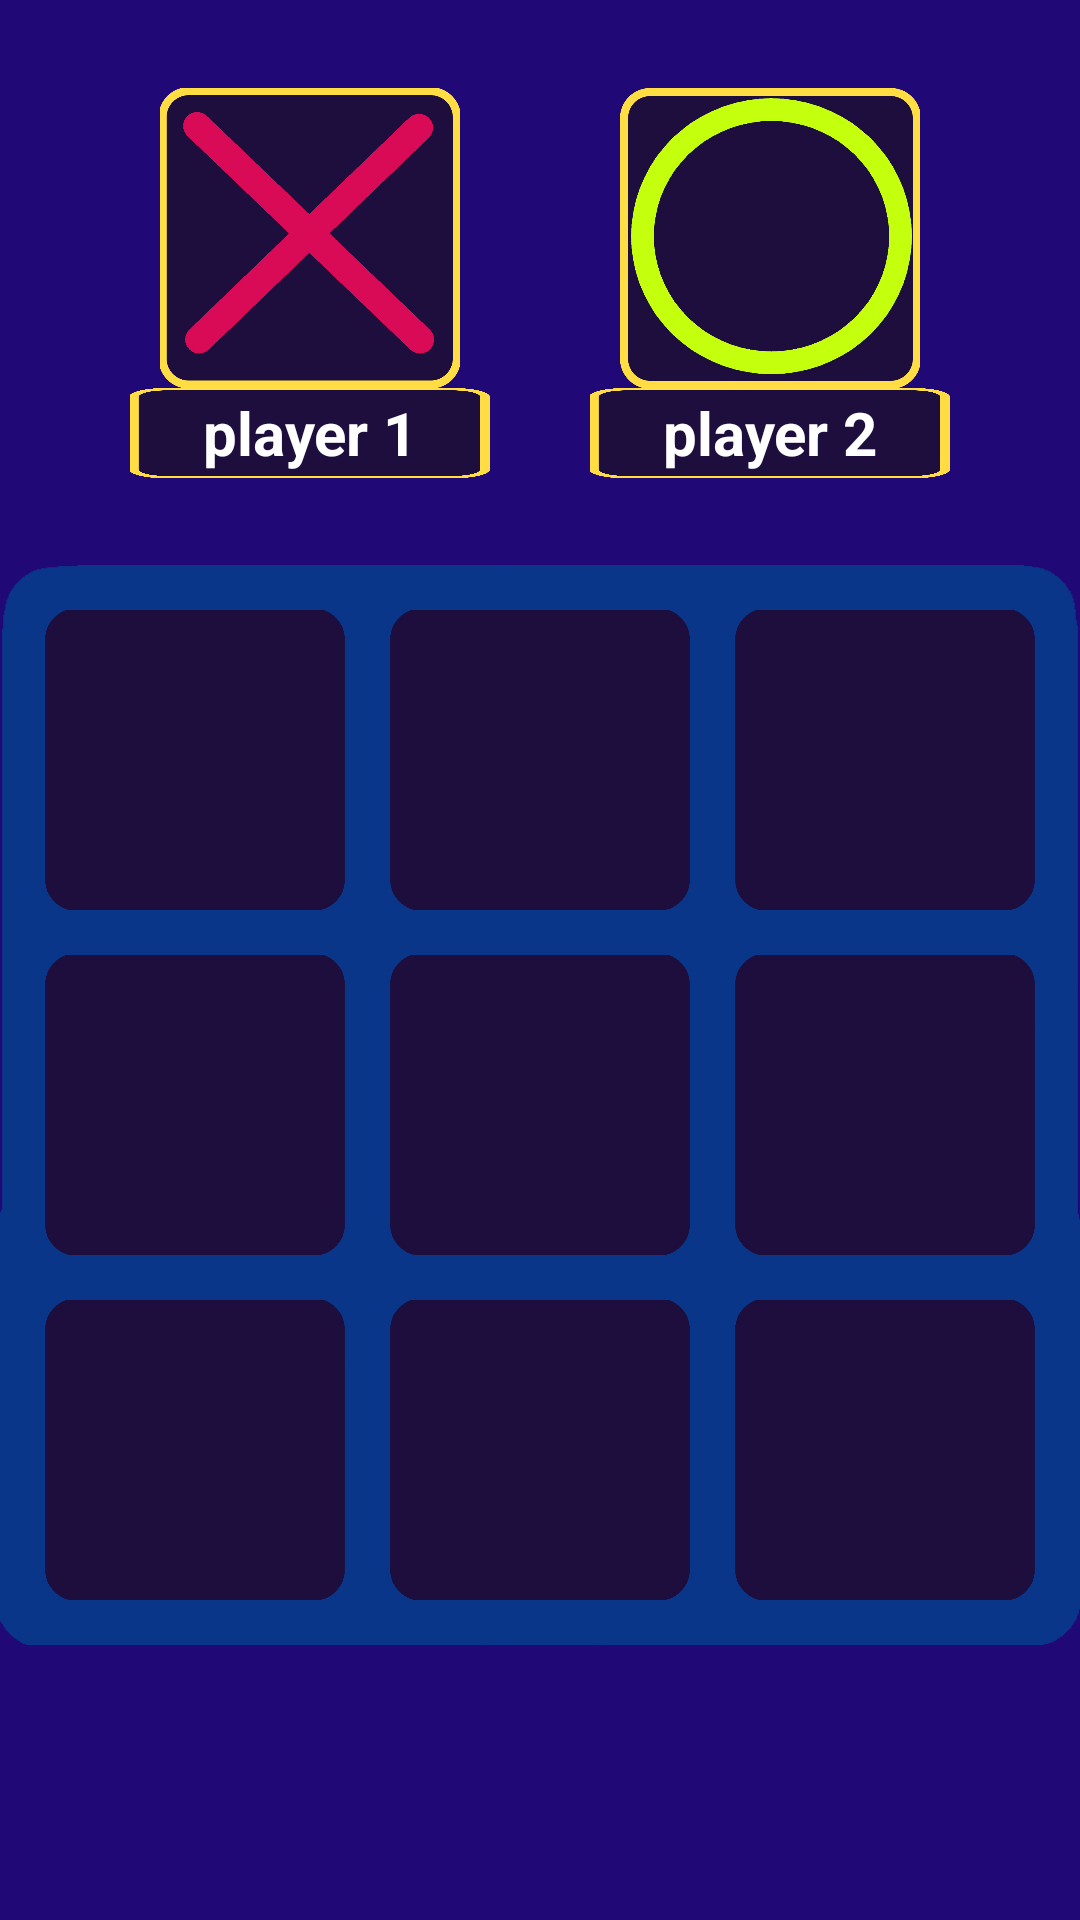

Named icons in this screenshot (1080 × 1920) and their centers, [x,y]:
circle chance: [770,238]
cross chance: [310,238]
